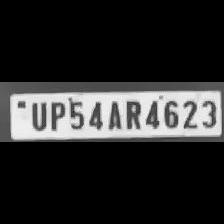2: (180, 97, 200, 129)
3: (198, 97, 218, 129)
4: (86, 97, 106, 130), (142, 97, 162, 129)
5: (65, 98, 85, 130)
6: (160, 96, 180, 128)
A: (104, 98, 120, 130)
P: (46, 99, 66, 131)
R: (121, 97, 141, 130)
U: (27, 99, 47, 131)
